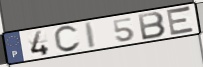4: (29, 30, 50, 57)
5: (111, 17, 136, 43)
B: (136, 11, 168, 42)
C: (52, 24, 83, 54)
E: (166, 5, 197, 37)
I: (83, 21, 97, 50)
